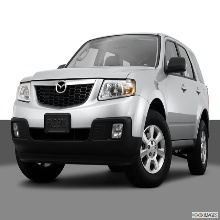no damage: (11, 32, 209, 185)
